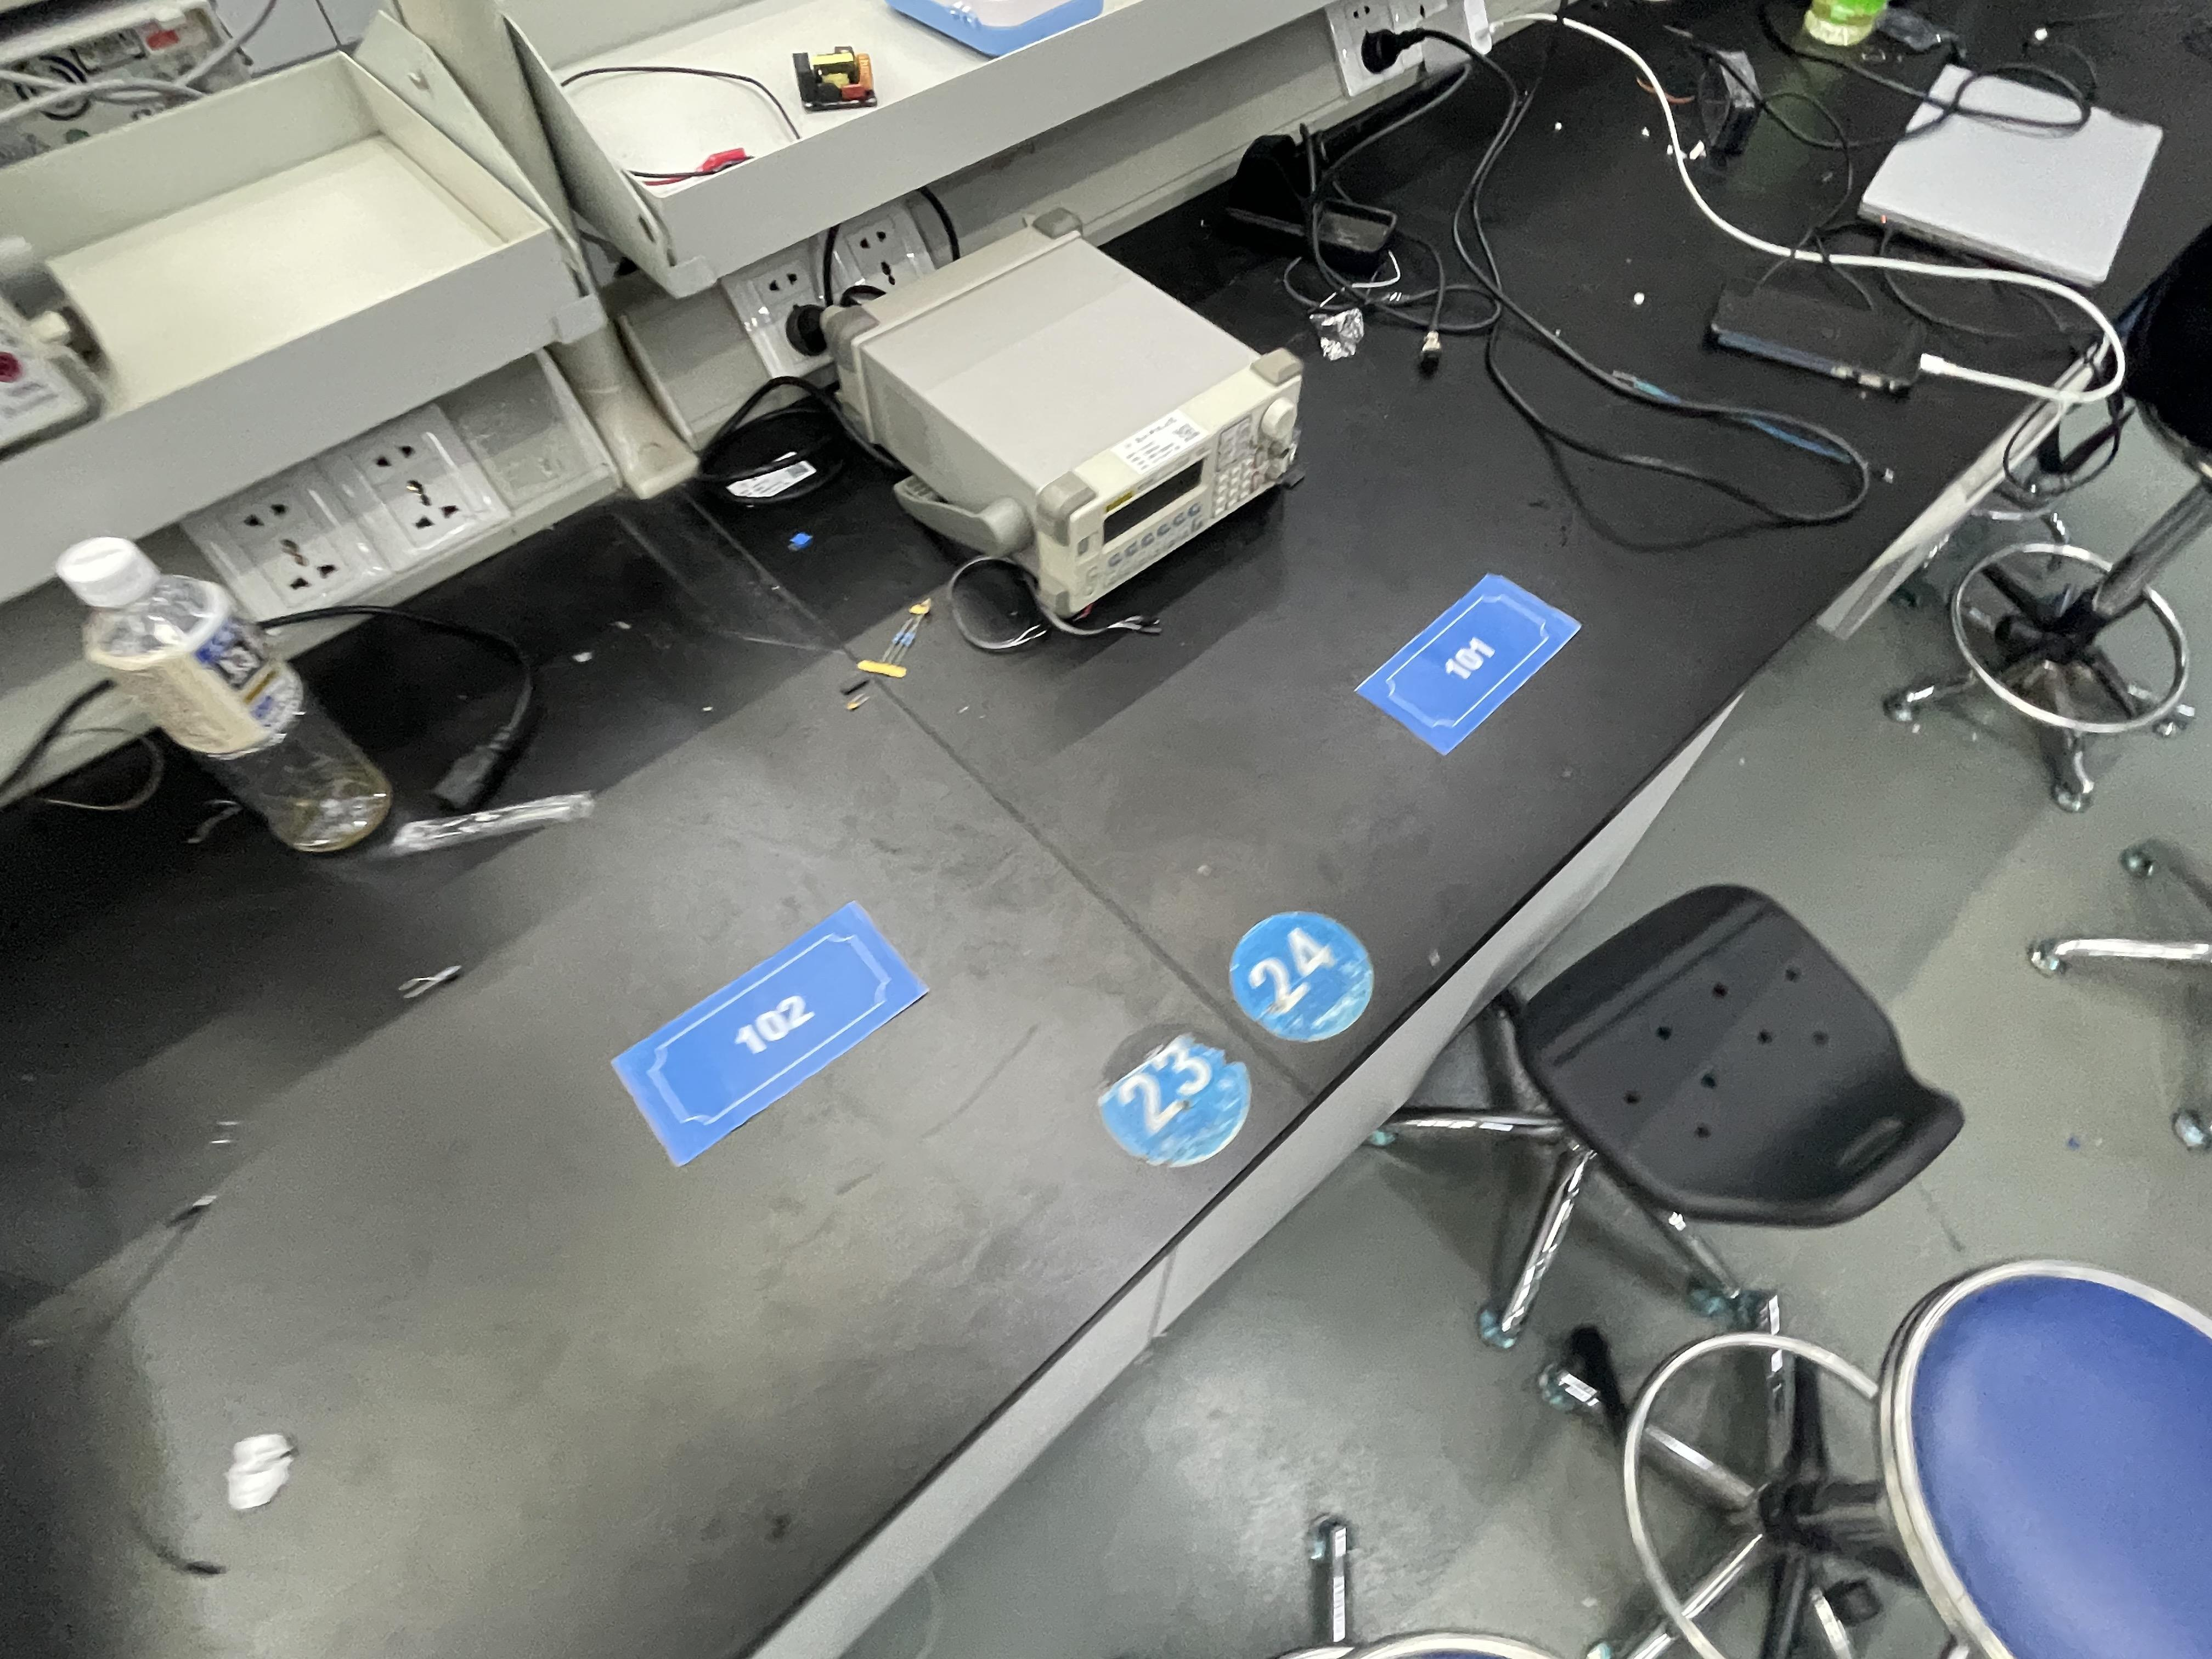Card: (601, 884, 943, 1185), (1336, 546, 1592, 787)
